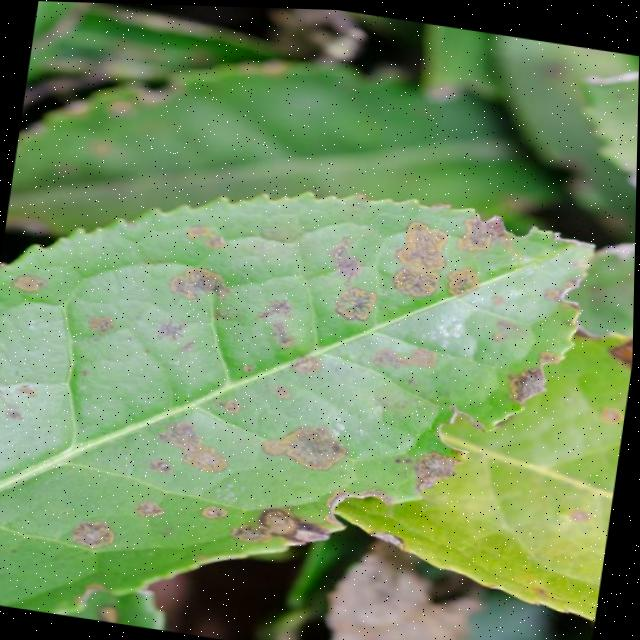Tea red rust: (15, 147, 600, 632)
